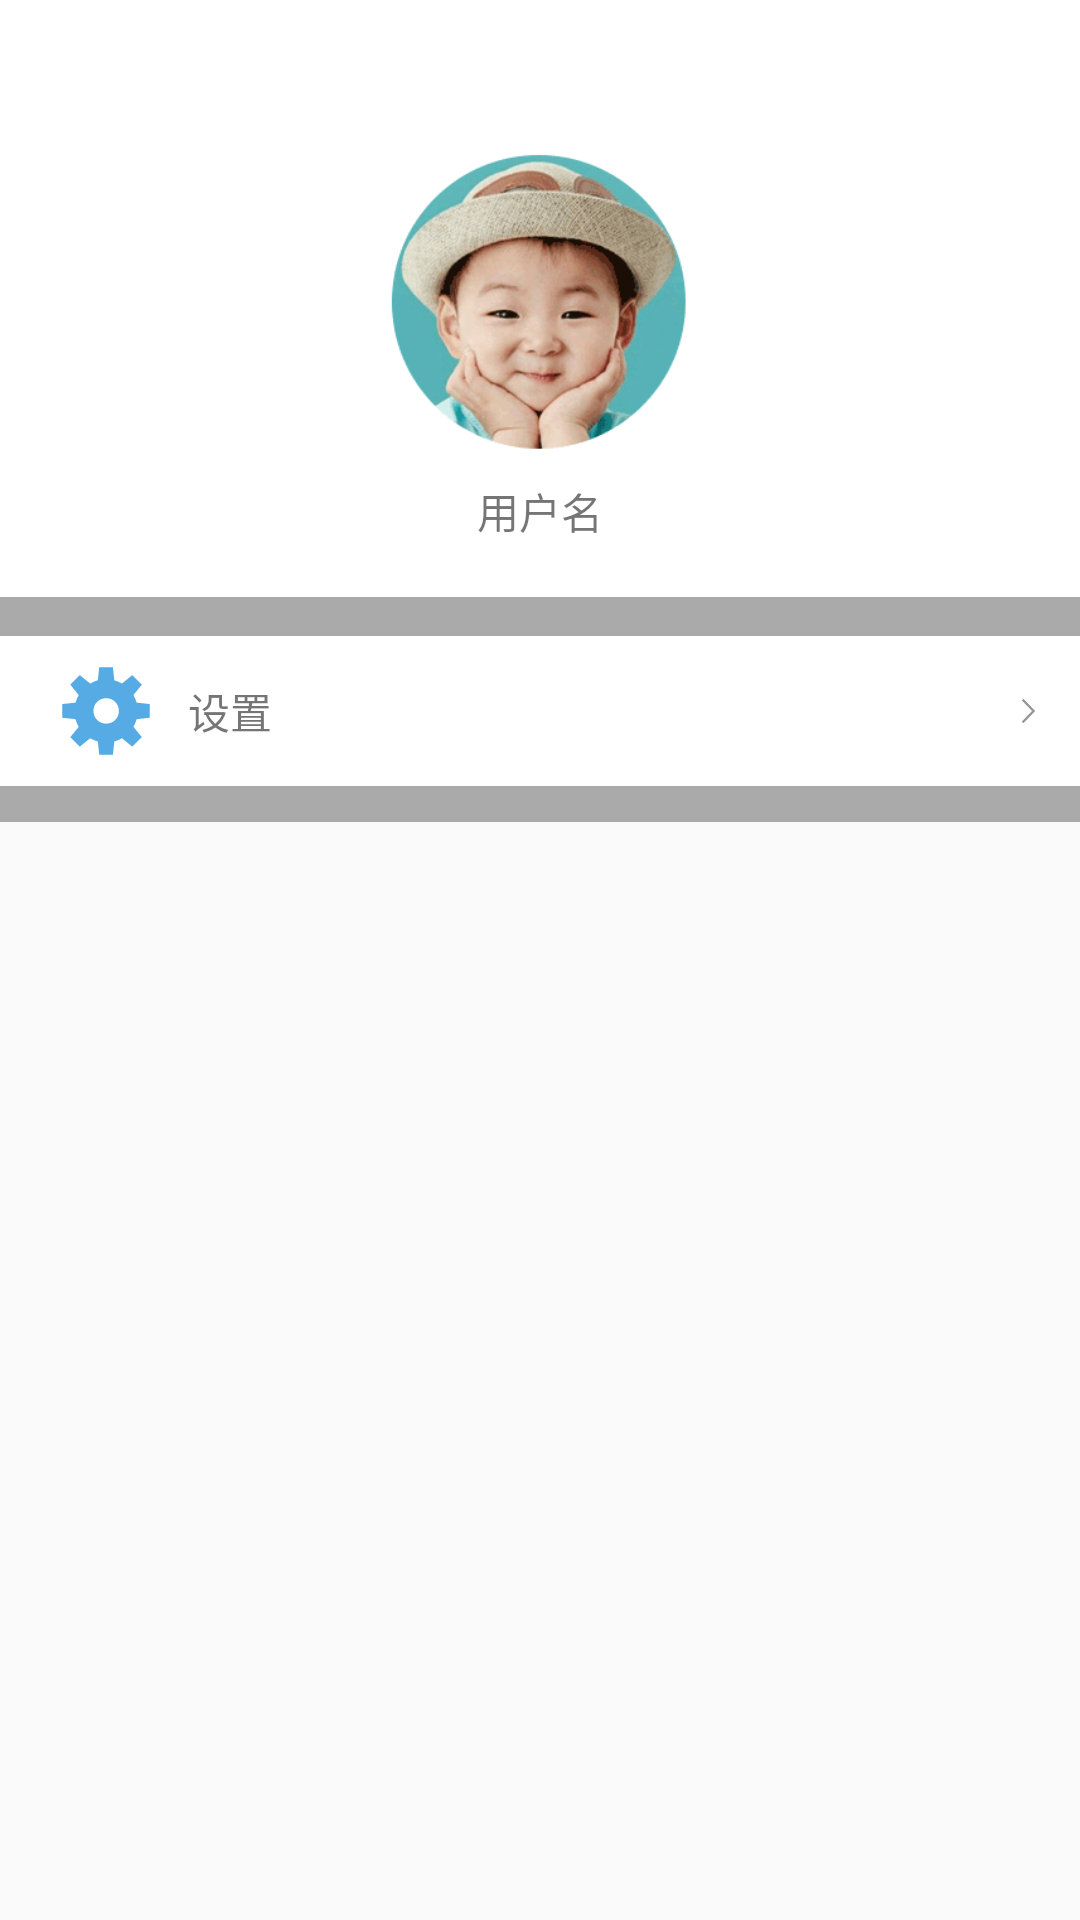

Screen size 1080*1920. Icon name, then its box in pixels as region(x1, y1, x2, y2):
arrow right: region(1022, 699, 1035, 723)
